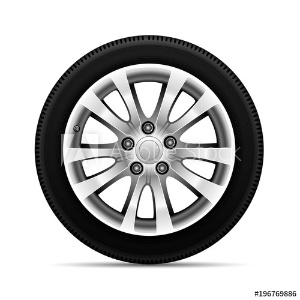tire: (36, 33, 265, 264)
